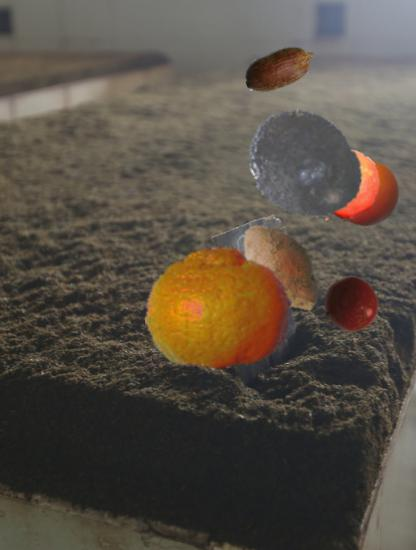Avocado: (244, 106, 364, 226)
Clementine: (306, 147, 381, 222)
Grapefruit: (322, 153, 400, 231)
Mandarine: (144, 234, 292, 382)
Nut: (243, 31, 319, 107)
Potato: (228, 214, 335, 321)
Tomato: (323, 276, 380, 333)
